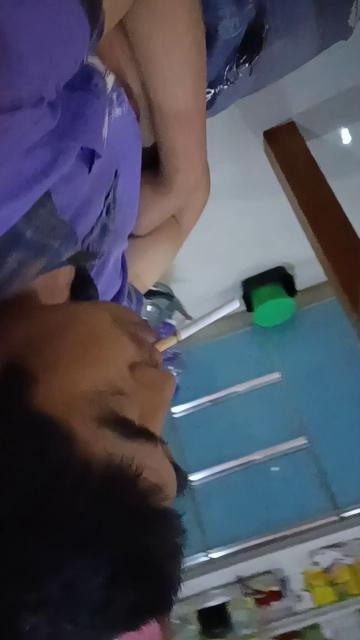Smoking: (154, 298, 241, 352)
